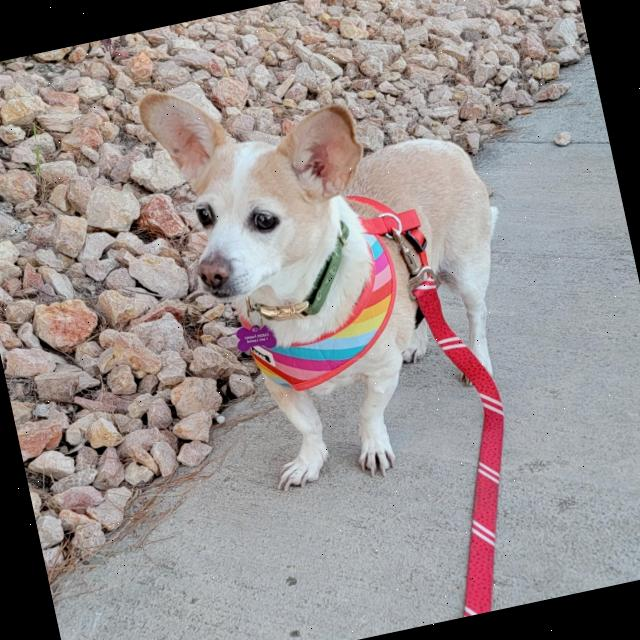corgi_dog: (115, 42, 398, 324)
